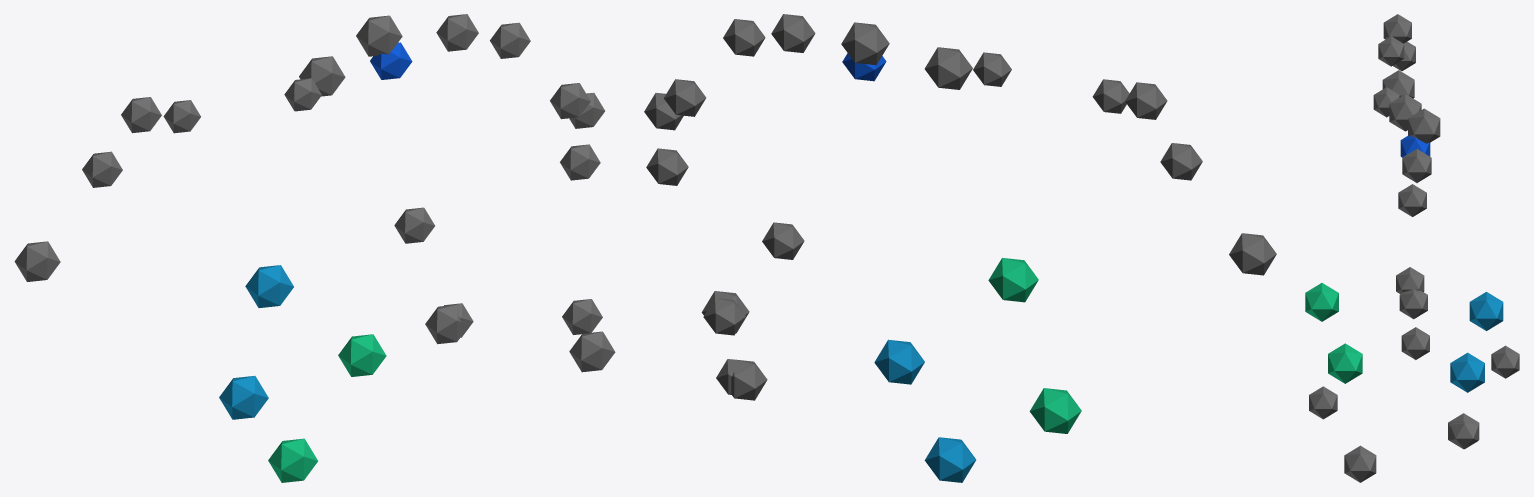
The picture shows the model from 3 angles, left to right: view 1: azimuth 30°, elevation 25°; view 2: azimuth 150°, elevation 25°; view 3: azimuth 270°, elevation 25°; orthographic projection. The views are drawn at different scales.
Parts seen in each view (by area): view 1: 06_04_00; view 2: 06_04_00; view 3: 06_04_00.
Boxes of the visible parts, <box> form: 06_04_00: <box>14,14,615,482</box>; 06_04_00: <box>644,14,1276,482</box>; 06_04_00: <box>1305,14,1519,482</box>.
Size of the model in its own units: 0.6522 by 0.4168 by 0.2533.
